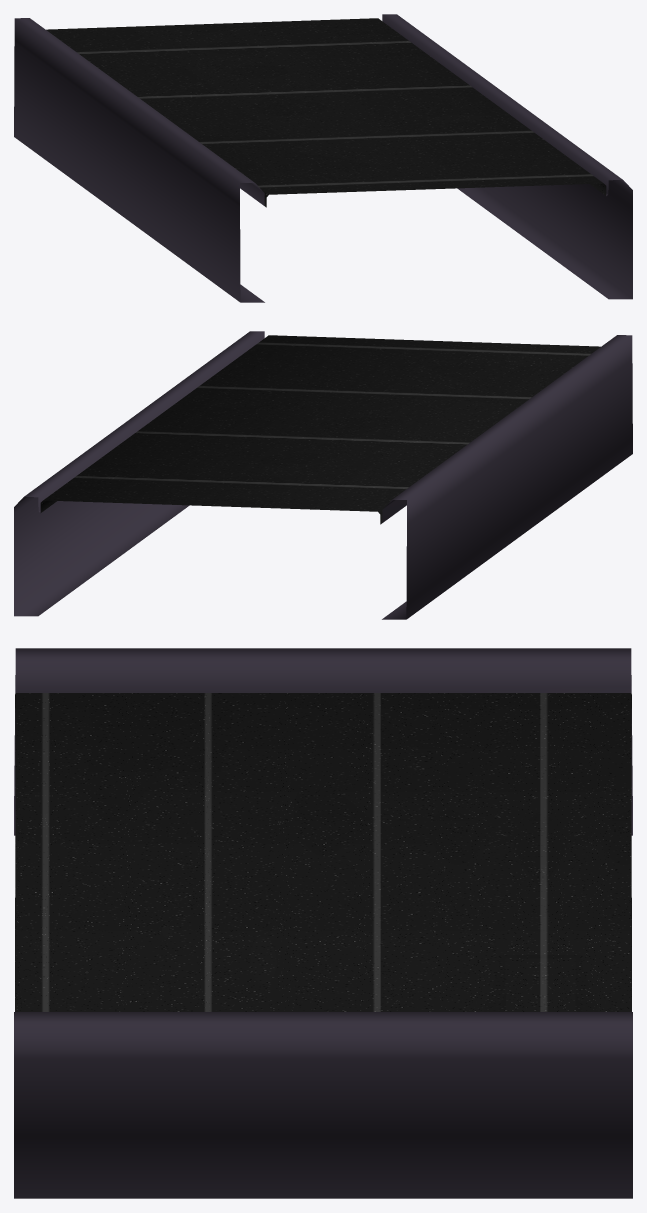
File: SM_ConveyerBelt.fbx
The picture shows the model from 3 angles, top to bottom: view 1: azimuth 30°, elevation 25°; view 2: azimuth 150°, elevation 25°; view 3: azimuth 270°, elevation 25°; orthographic projection. The views are drawn at different scales.
Visible parts, largest first — view 1: SM_ConveyerBelt_Inner.001; view 2: SM_ConveyerBelt_Inner.001; view 3: SM_ConveyerBelt_Inner.001.
Part boxes in pixels (x1=…): SM_ConveyerBelt_Inner.001: x1=14, y1=14, x2=632, y2=302; SM_ConveyerBelt_Inner.001: x1=14, y1=331, x2=632, y2=619; SM_ConveyerBelt_Inner.001: x1=14, y1=648, x2=632, y2=1198.
Bounding box in the file's own units: 200 × 103 × 200.
